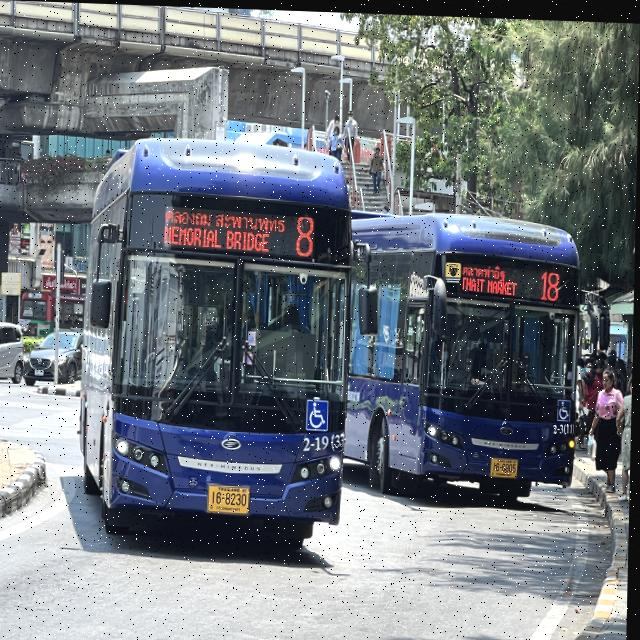Bus-Line-Number: (291, 204, 320, 263), (535, 259, 569, 305)
Destination-Sign-Normal: (161, 199, 291, 261), (456, 253, 524, 299)
TSB-Bus: (77, 134, 355, 548), (346, 208, 591, 501)
